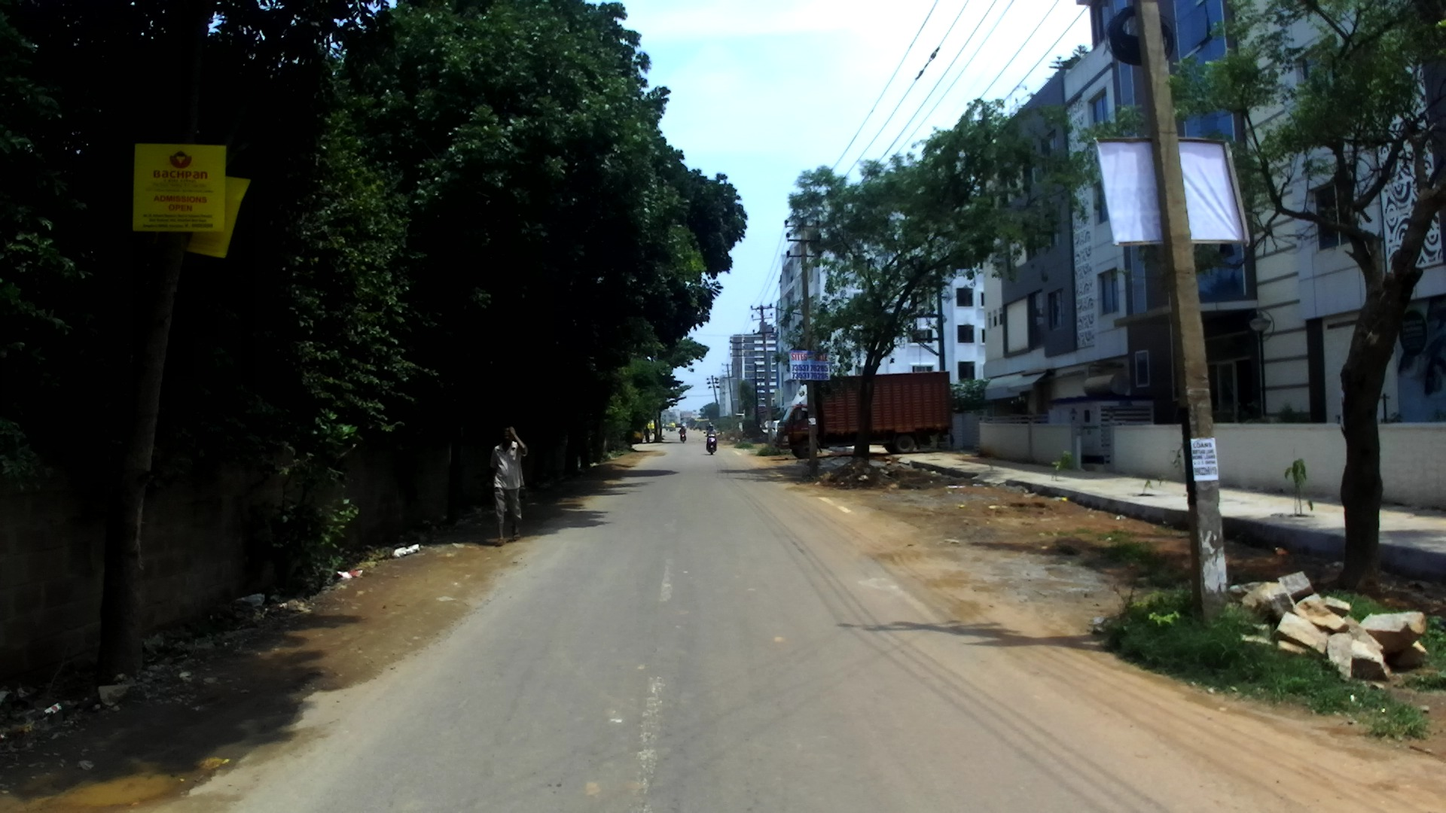autorickshaw: (633, 426, 644, 444), (648, 422, 655, 434), (669, 422, 676, 431)
car: (771, 420, 782, 443), (759, 420, 767, 434)
motorcycle: (703, 431, 720, 455), (678, 431, 688, 443)
person: (490, 426, 529, 547), (643, 426, 651, 444)
rider: (706, 424, 717, 437), (679, 425, 687, 435)
truck: (774, 370, 955, 458)
vehicle fallback: (693, 419, 710, 431), (681, 422, 688, 431), (666, 424, 669, 431), (690, 425, 693, 431)
